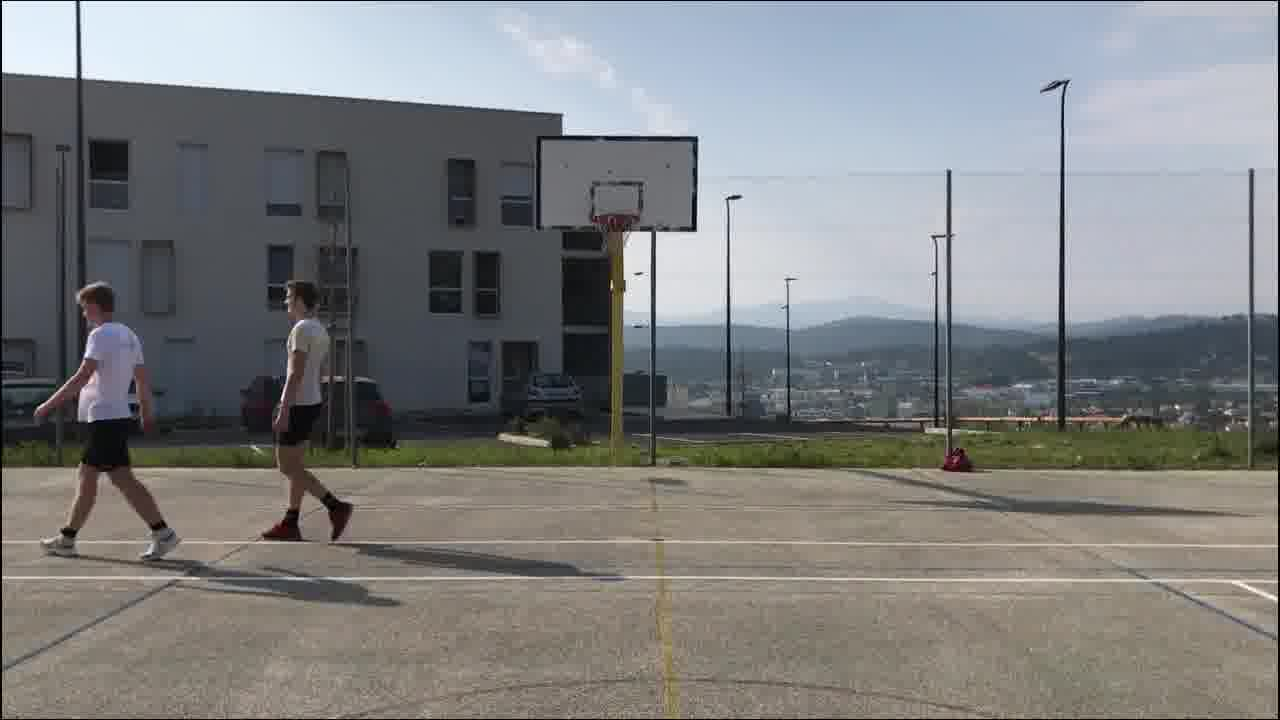jugador: (244, 265, 361, 552)
